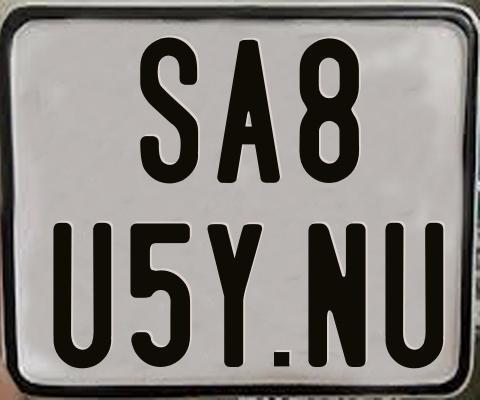5: (128, 220, 192, 365)
8: (299, 38, 365, 185)
A: (215, 37, 282, 186)
N: (305, 220, 367, 366)
S: (137, 35, 201, 182)
U: (51, 220, 114, 372), (385, 220, 446, 365)
Y: (207, 221, 265, 365)
